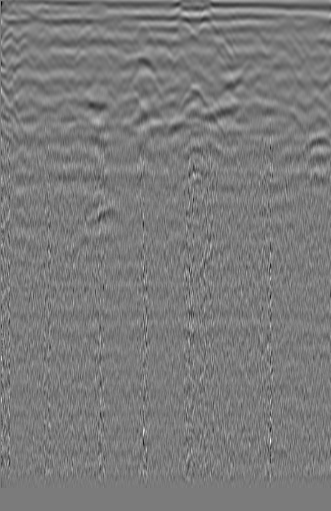상수: (291, 49, 323, 76)
오수: (0, 24, 23, 50)
우수: (121, 53, 166, 91)
